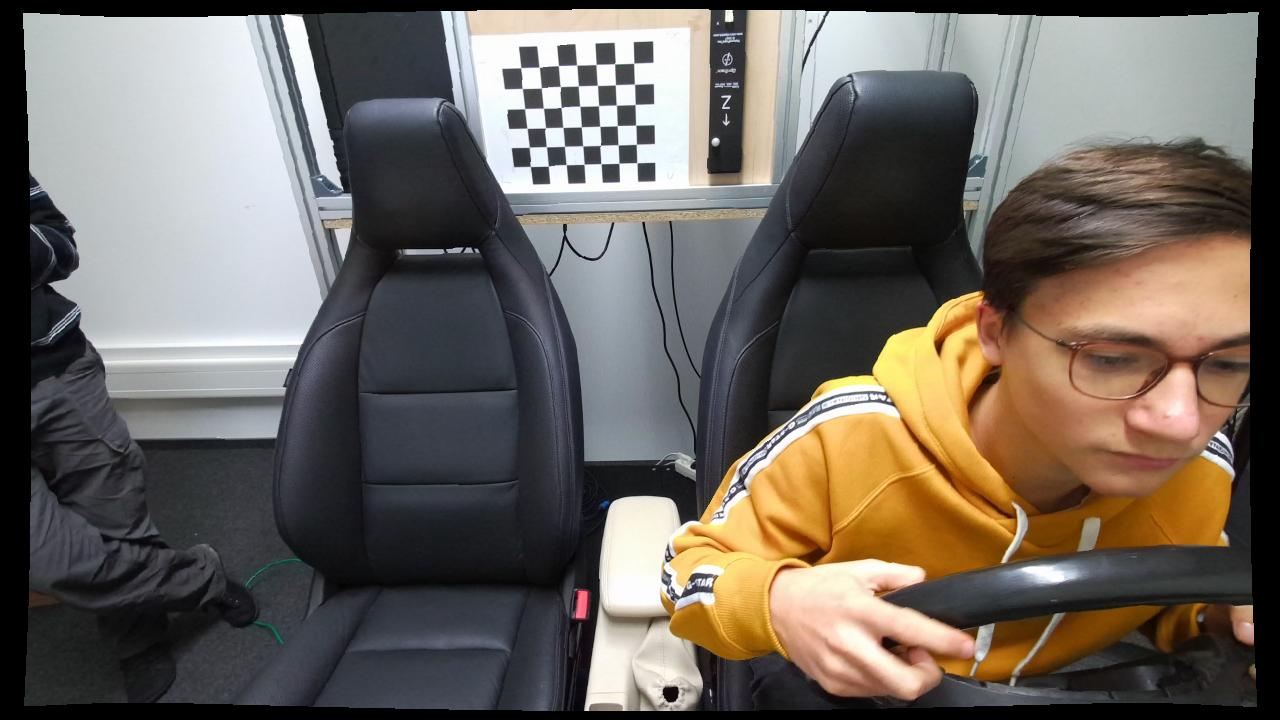Distracted: (660, 140, 1251, 717)
